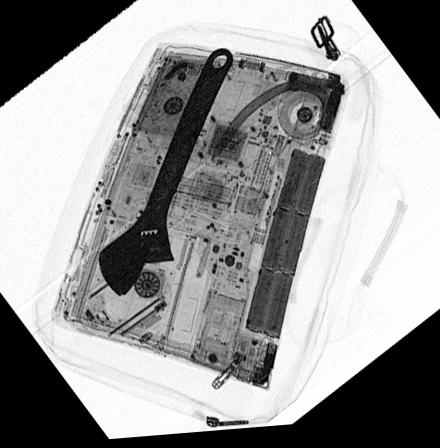Wrench: (96, 51, 231, 300)
